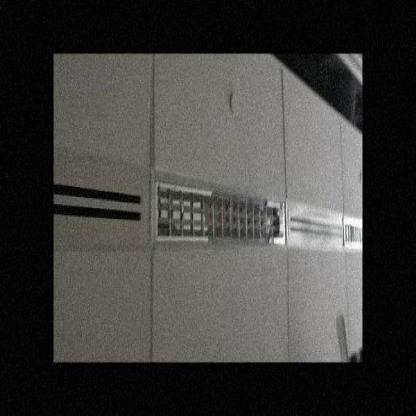light_off: (146, 162, 288, 266), (338, 206, 362, 262)
